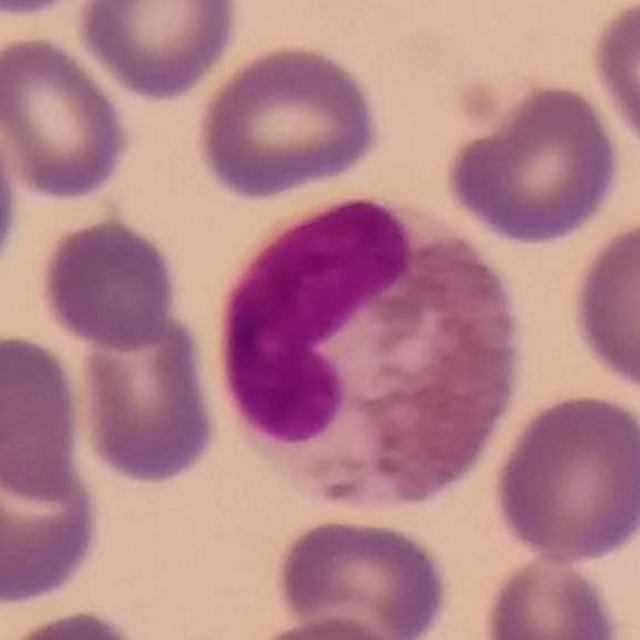eosino: (217, 193, 519, 512)
